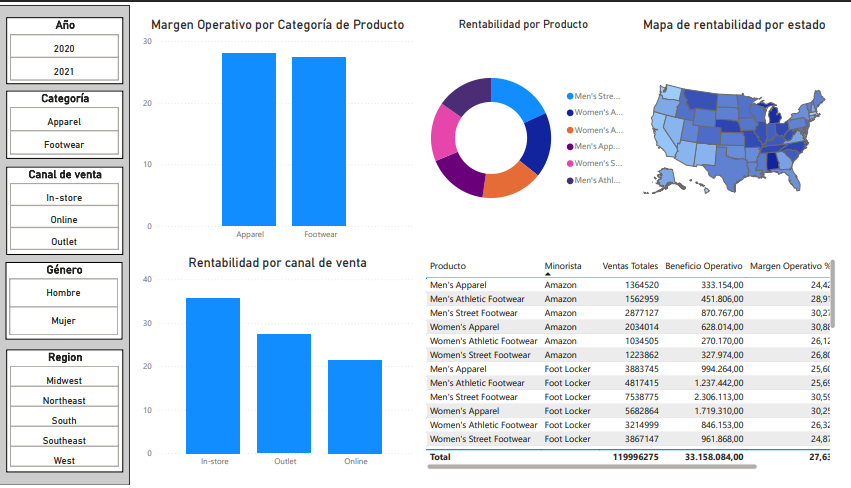

This screenshot's page, from the dashboard's own definition file:
{"tool":"powerbi","page":{"name":"Análisis de Rentabilidad","canvas":[1280,720],"ordinal":3},"visuals":[{"type":"shape","box":[0,0,195.8,719.4],"z":0},{"type":"advancedSlicerVisual","fields":{"Values":["Adidas_US_2.Año"]},"box":[11.1,18.1,175,113.9],"z":1},{"type":"advancedSlicerVisual","fields":{"Values":["Adidas_US_2.Category"]},"box":[11.1,151.4,175,116.7],"z":2},{"type":"advancedSlicerVisual","fields":{"Values":["Adidas_US_2.Sales Method"]},"box":[11.1,283.3,175,151.4],"z":3},{"type":"advancedSlicerVisual","fields":{"Values":["Adidas_US_2.Género"]},"box":[11.1,448.6,175,131.9],"z":4},{"type":"clusteredColumnChart","title":"Margen Operativo por Categoría de Producto","fields":{"Category":["Adidas_US_2.Category"],"Y":["Adidas_US_2.Margen Operativo %"]},"box":[211.1,18.1,413.9,343.1],"z":5},{"type":"clusteredColumnChart","title":"Rentabilidad por método de venta","fields":{"Category":["Adidas_US_2.Sales Method"],"Y":["Adidas_US_2.Margen Operativo %"]},"box":[211.1,375,413.9,326.4],"z":6},{"type":"shapeMap","title":"Mapa de rentabilidad por estado","fields":{"Category":["Adidas_US_2.State"],"Value":["Adidas_US_2.Margen Operativo %"]},"box":[634.7,18.1,623.6,343.1],"z":7},{"type":"tableEx","fields":{"Values":["Adidas_US_2.Product","Adidas_US_2.Retailer","Adidas_US_2.Ventas Totales","Sum(Adidas_US_2.Operating Profit)","Adidas_US_2.Margen Operativo %","Adidas_US_2.Unidades Vendidas"]},"box":[635,375,624,326],"z":8},{"type":"textbox","box":[11.1,580.6,175,125],"z":9}]}

Visuals, with their boxes in screenshot pixels (x1, y1, x2, y2), scaled from the page's 1280x720 canvas onto the 851x488 screenshot:
shape: (0,0,130,487)
advancedSlicerVisual - Adidas_US_2.Año: (7,12,124,89)
advancedSlicerVisual - Adidas_US_2.Category: (7,103,124,182)
advancedSlicerVisual - Adidas_US_2.Sales Method: (7,192,124,295)
advancedSlicerVisual - Adidas_US_2.Género: (7,304,124,393)
"Margen Operativo por Categoría de Producto" clusteredColumnChart: (140,12,416,245)
"Rentabilidad por método de venta" clusteredColumnChart: (140,254,416,475)
"Mapa de rentabilidad por estado" shapeMap: (422,12,837,245)
tableEx - Adidas_US_2.Product x Adidas_US_2.Retailer: (422,254,837,475)
textbox: (7,394,124,478)
